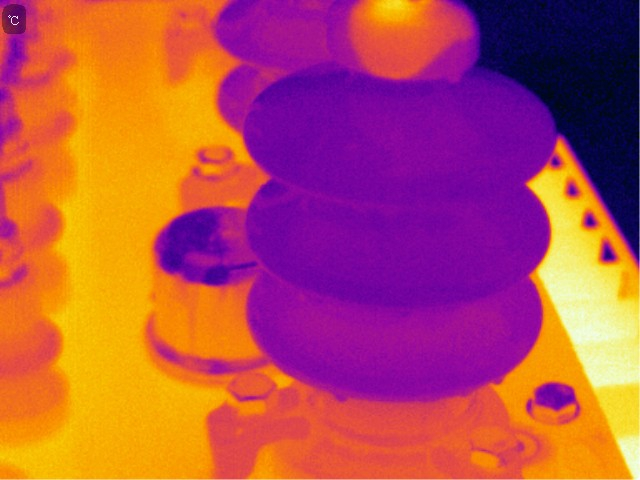Oil: (344, 1, 472, 83), (329, 384, 351, 404), (489, 373, 508, 388)
